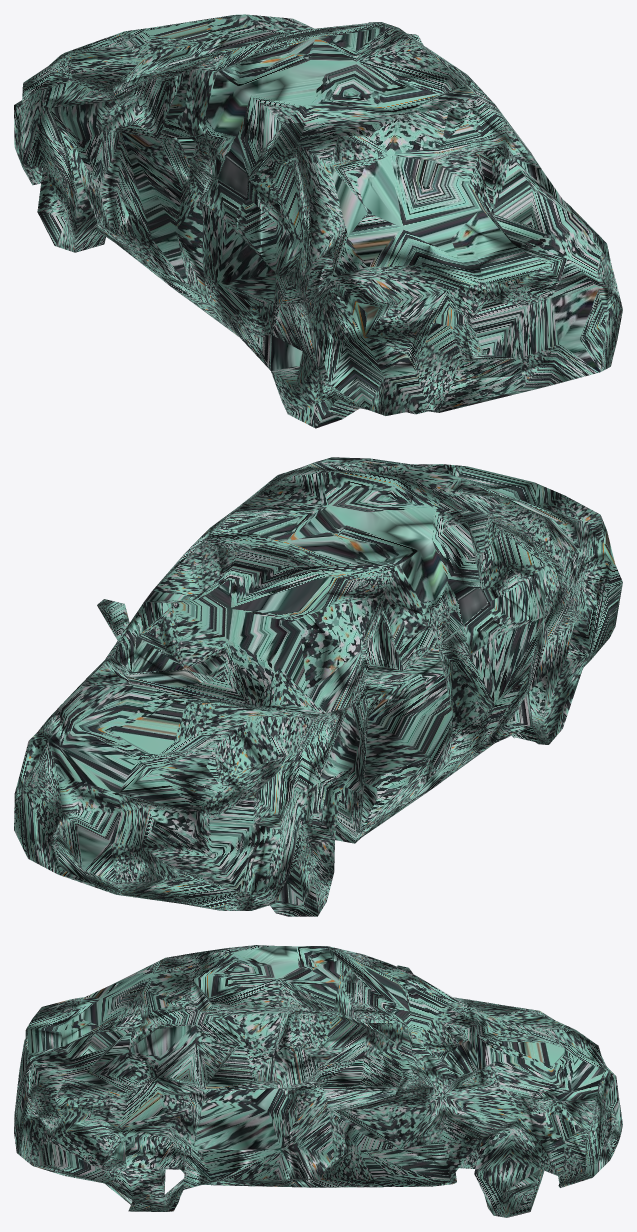
The model's file is sedan.far.glb.
3 renders of one model, top to bottom at view 1: azimuth 30°, elevation 25°; view 2: azimuth 150°, elevation 25°; view 3: azimuth 270°, elevation 25°, orthographic. The views are drawn at different scales.
Bounding box in the file's own units: 0.873 × 0.6771 × 1.88.
Materials: 1 (1 with a texture image).
